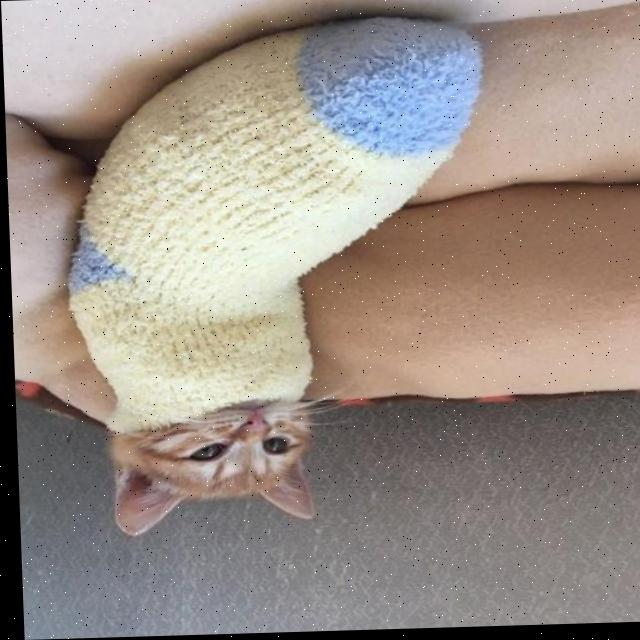Cats: (109, 402, 305, 537)
